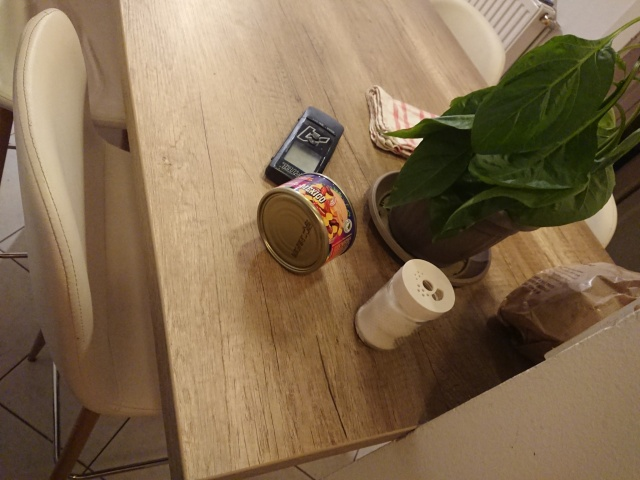Giana Tuna Salad Mexico 185g: (255, 170, 361, 279)
